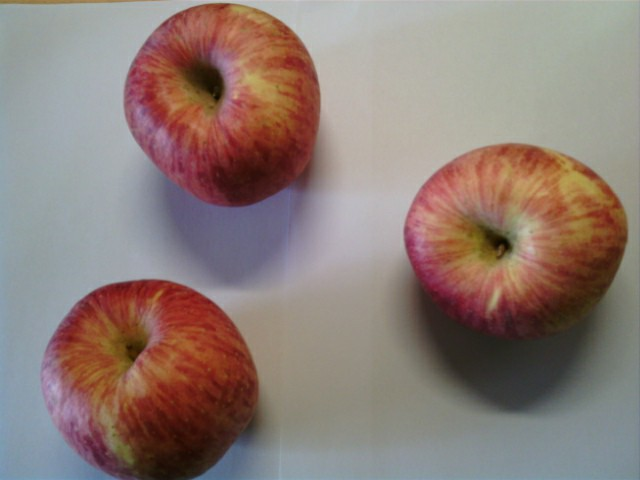normal_apple: (404, 137, 629, 342), (44, 277, 262, 479), (125, 1, 321, 209)
